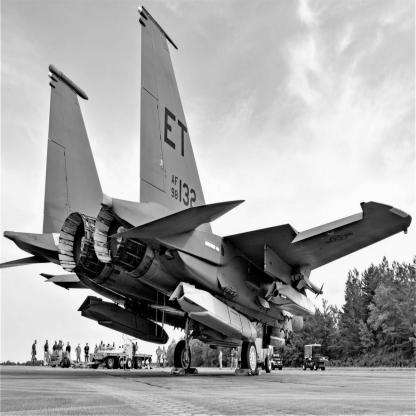F15: (1, 6, 413, 377)
